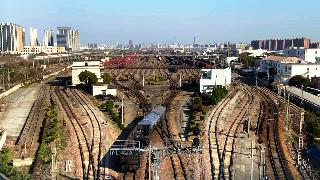train: (120, 105, 167, 171), (188, 78, 197, 84), (172, 66, 178, 72)
